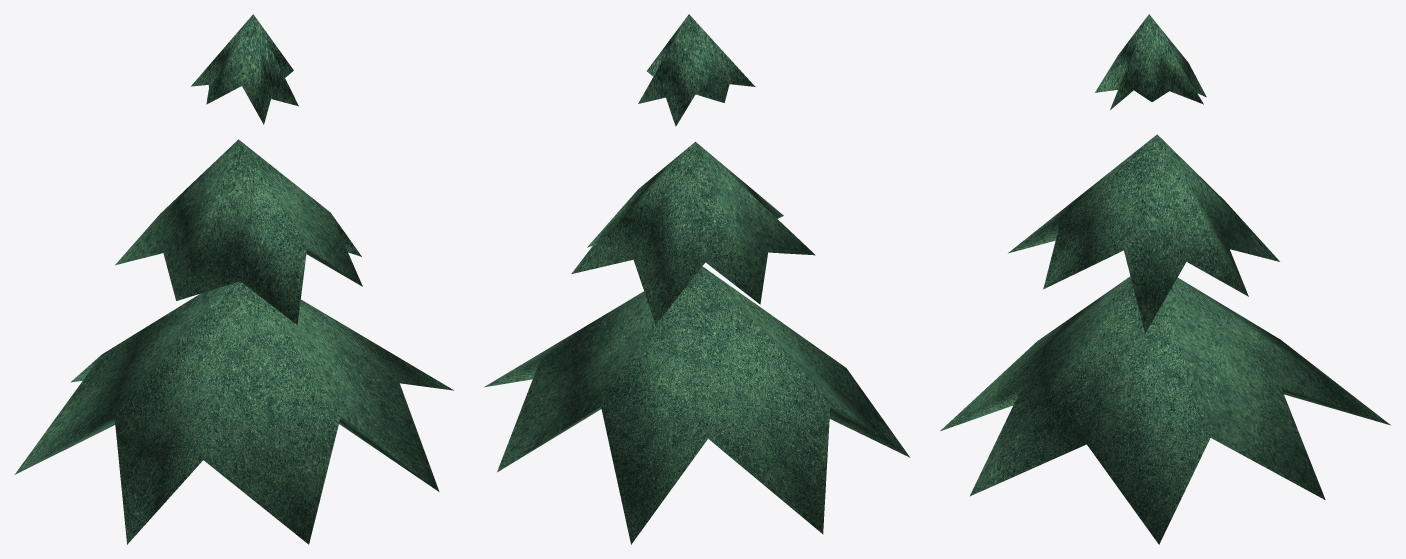
File: bush_1.glb
3 views of the same model, side by side, from view 1: azimuth 30°, elevation 25°; view 2: azimuth 150°, elevation 25°; view 3: azimuth 270°, elevation 25° (orthographic). The views are drawn at different scales.
Parts seen in each view (by area): view 1: bush_1; view 2: bush_1; view 3: bush_1.
Boxes of the visible parts, box(x1,y1,x2,y2) form: bush_1: box(14, 14, 453, 544); bush_1: box(484, 14, 910, 544); bush_1: box(940, 14, 1390, 544).
Size of the model in its own units: 1.54 by 1.68 by 1.53.
1 material, 1 textured.
